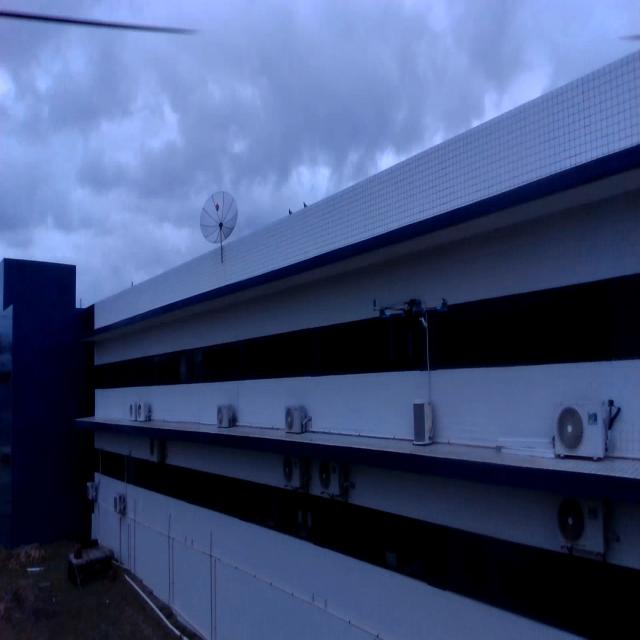-uav-: (368, 285, 464, 388)
